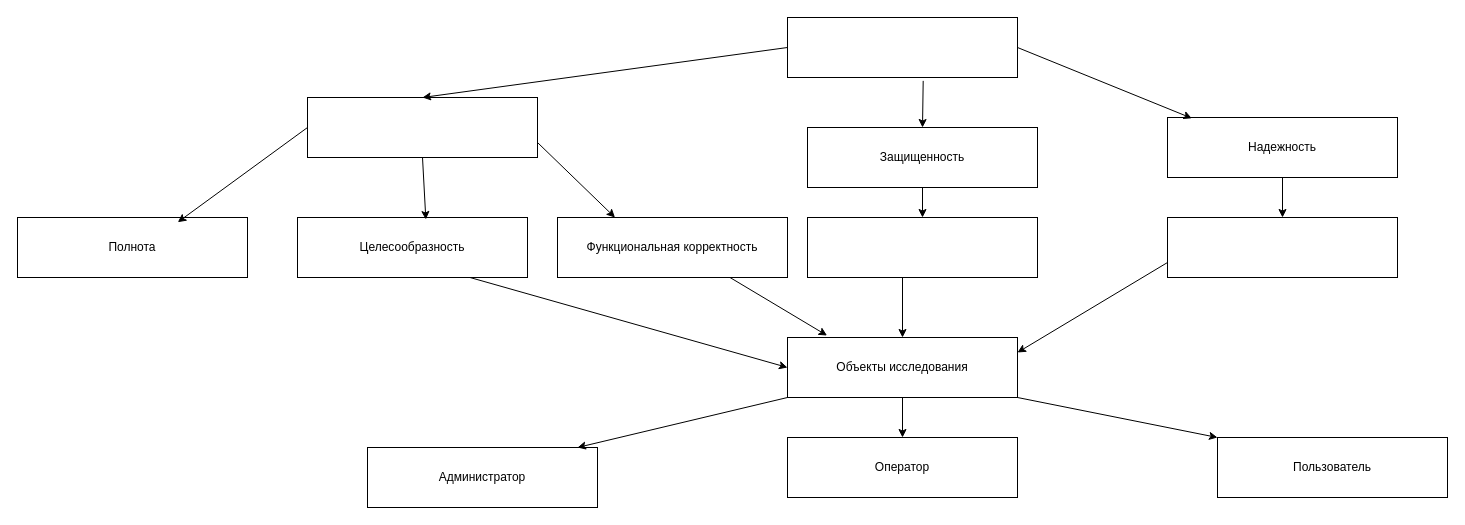
Image size: 1465x525. Some labels were removed from this diagram. Each missing label, with the box of its shape:
Конфиденциальность: (806, 216, 1038, 278)
Модель оценивая системы/ПП: (786, 16, 1018, 78)
Отказоустойчивость: (1166, 216, 1398, 278)
Функциональная пригодность: (306, 96, 538, 158)
